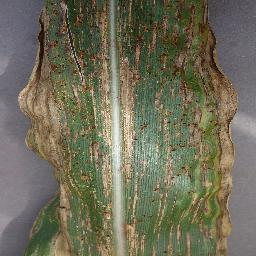Gray_Leaf_Spot: (9, 0, 243, 256)
